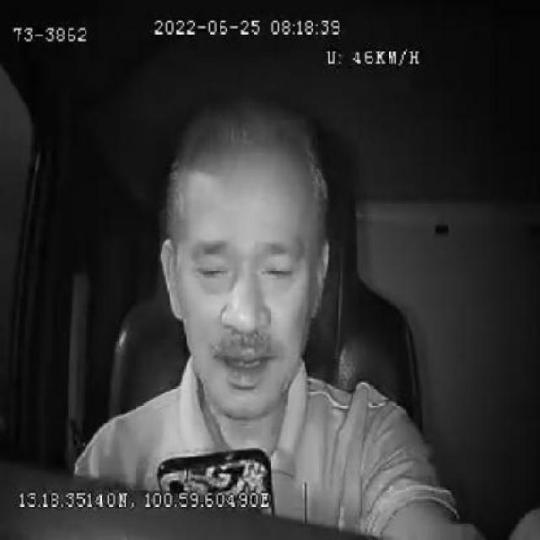phone: (157, 445, 272, 490)
